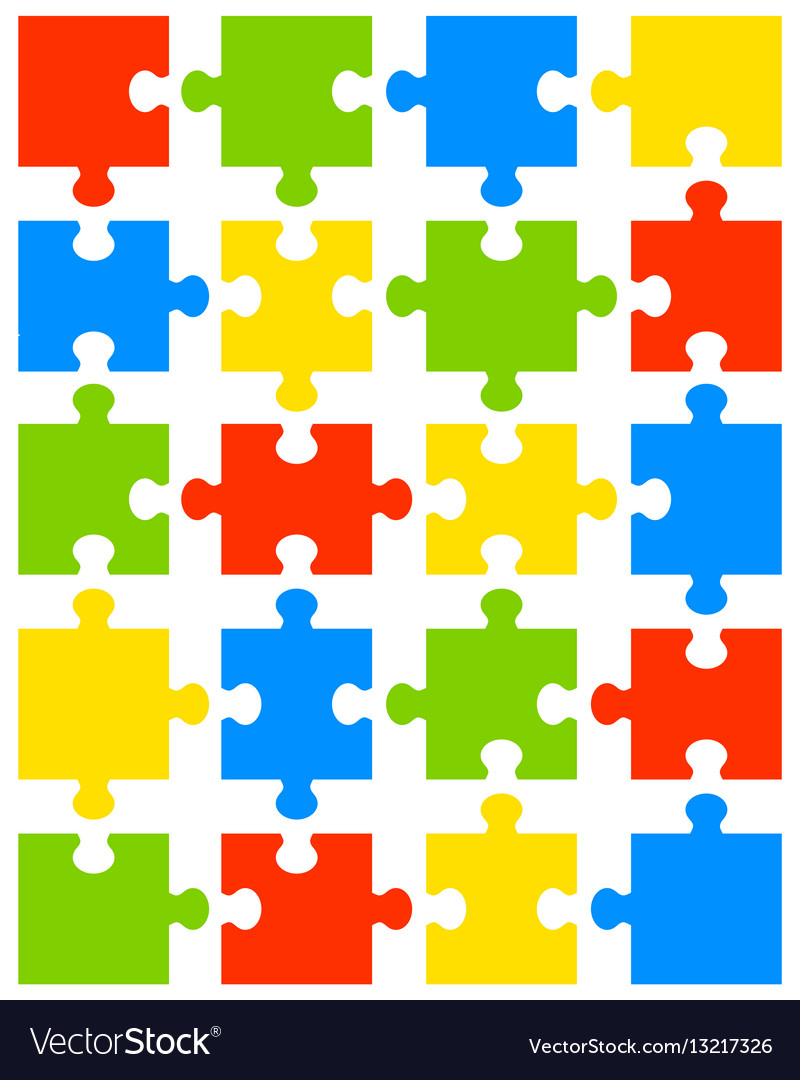puzzle piece: (9, 586, 221, 821), (386, 213, 613, 415), (207, 578, 385, 826), (383, 586, 590, 794), (183, 413, 417, 591), (591, 790, 789, 996), (182, 3, 376, 211), (386, 11, 587, 211), (624, 381, 787, 616), (11, 209, 212, 393), (583, 609, 786, 789), (413, 786, 587, 995), (220, 821, 418, 999), (8, 381, 183, 581), (11, 826, 217, 994), (2, 5, 179, 200), (412, 416, 624, 577), (625, 176, 791, 374), (216, 211, 373, 413), (595, 15, 789, 176)
